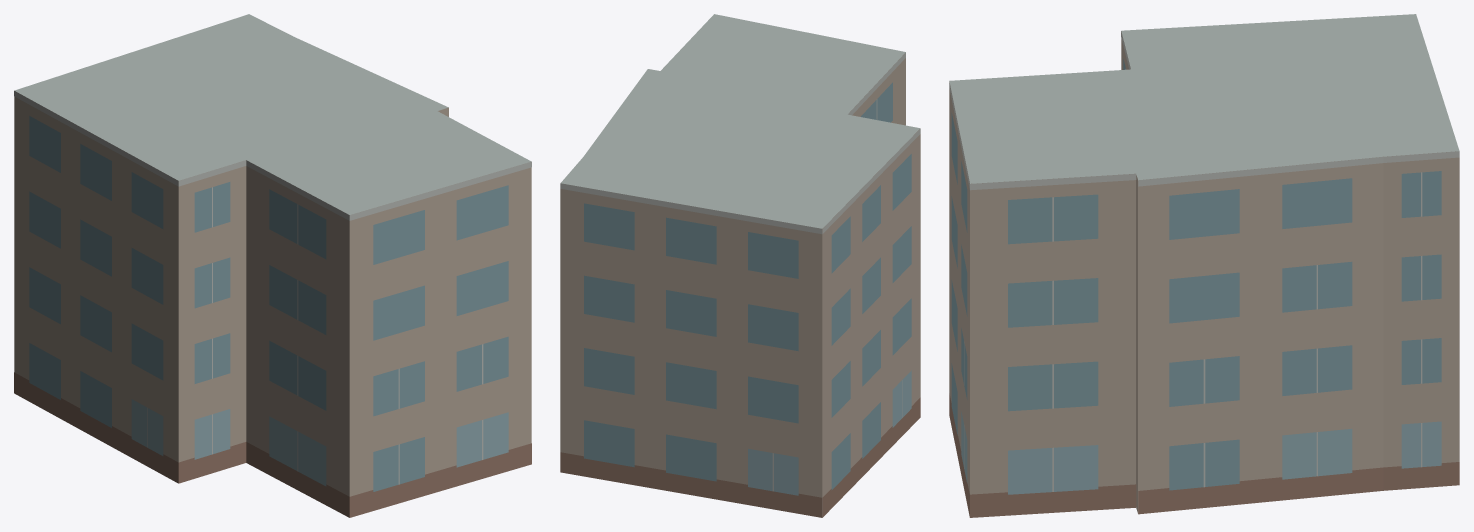
File: survey-upis-32917307.glb
The picture shows the model from 3 angles, left to right: view 1: azimuth 30°, elevation 25°; view 2: azimuth 150°, elevation 25°; view 3: azimuth 270°, elevation 25°; orthographic projection. The views are drawn at different scales.
Visible parts, largest first — view 1: survey-upis-32917307.tmp; view 2: survey-upis-32917307.tmp; view 3: survey-upis-32917307.tmp.
Part boxes in pixels (x1,y1,x2,y2): survey-upis-32917307.tmp: (14, 14, 531, 517); survey-upis-32917307.tmp: (560, 14, 920, 517); survey-upis-32917307.tmp: (949, 14, 1459, 517).
Size of the model in its own units: 13.97 by 12.8 by 17.73.
